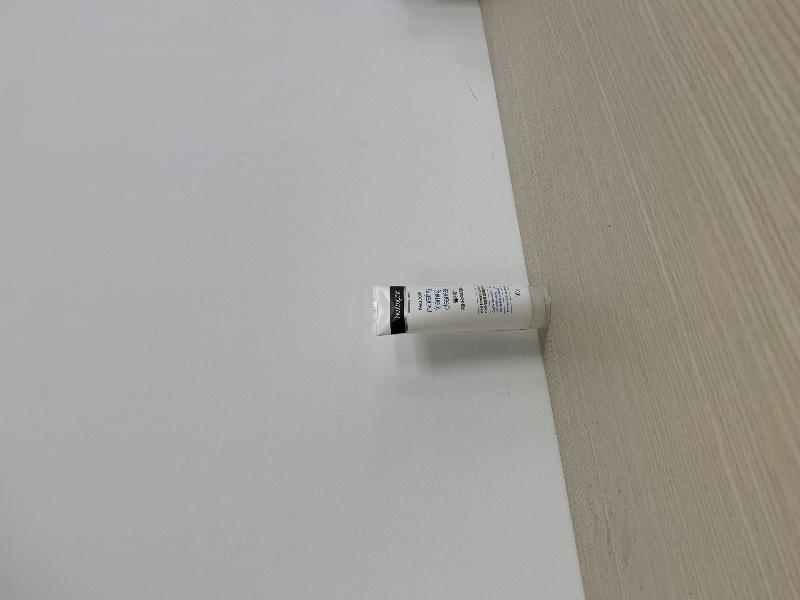HydratingFoamingCleanser: (372, 285, 551, 337)
